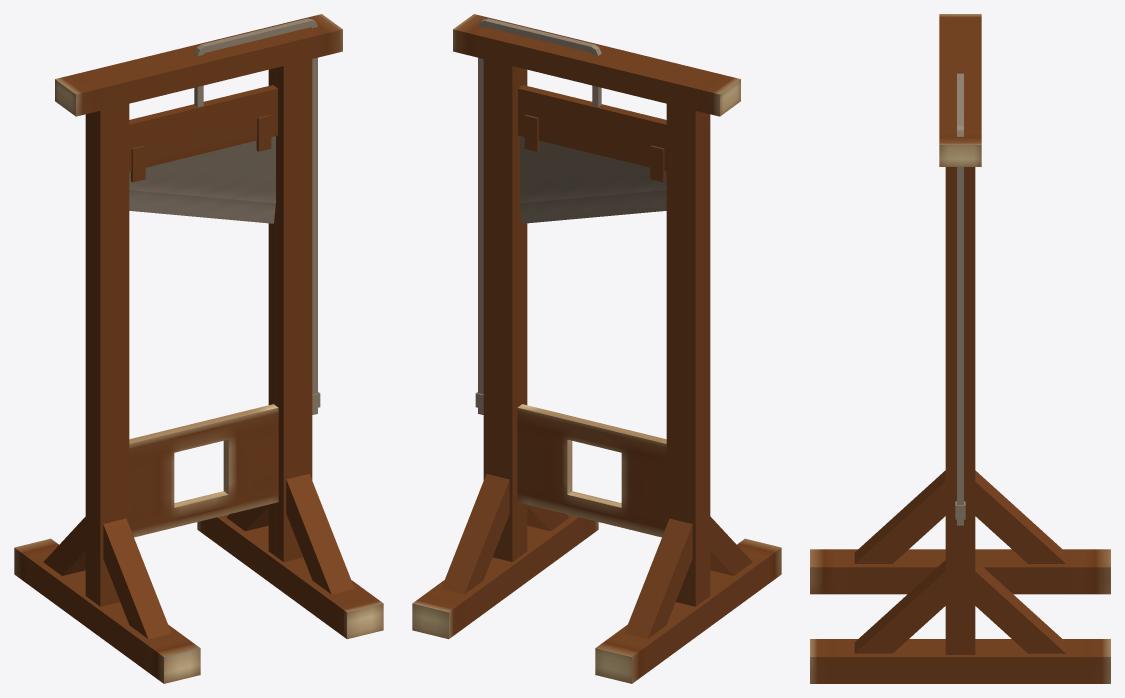
Rendered from kit-guillotine.glb.
The picture shows the model from 3 angles, left to right: view 1: azimuth 30°, elevation 25°; view 2: azimuth 150°, elevation 25°; view 3: azimuth 270°, elevation 25°; orthographic projection.
Parts seen in each view (by area): view 1: Cube.309; view 2: Cube.309; view 3: Cube.309.
Boxes of the visible parts, <box> form: Cube.309: <box>14,14,383,683</box>; Cube.309: <box>412,14,781,683</box>; Cube.309: <box>810,14,1110,683</box>.
Bounding box in the file's own units: 1.31 × 2.61 × 1.27.
1 material, 1 textured.
